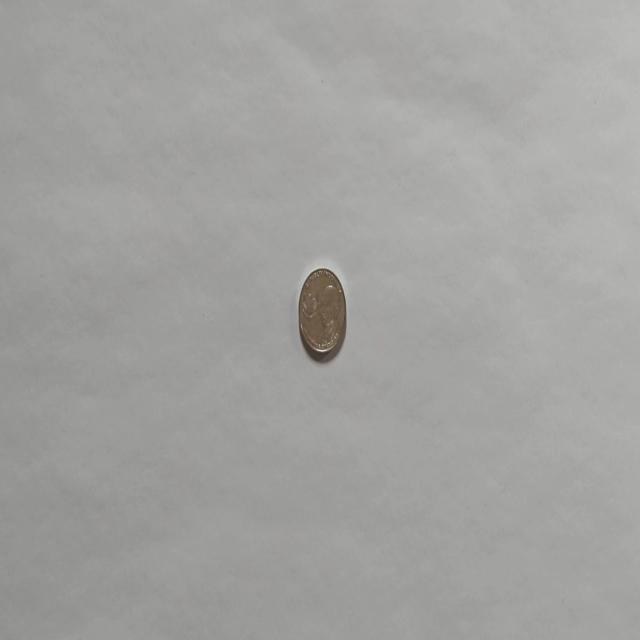lima ratus rupiah: (297, 265, 347, 358)
